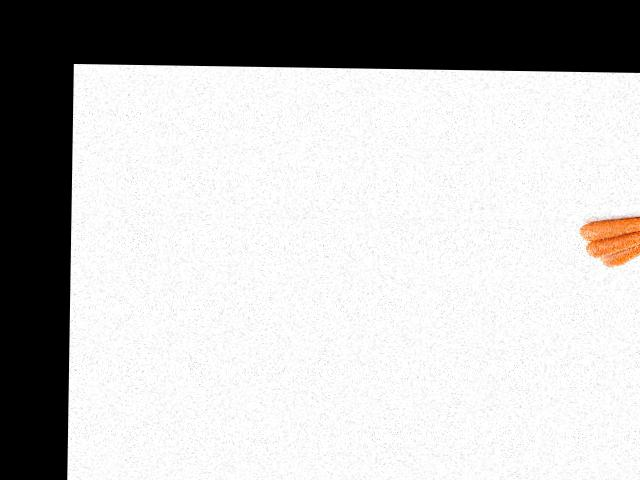carrot: (575, 208, 640, 243)
